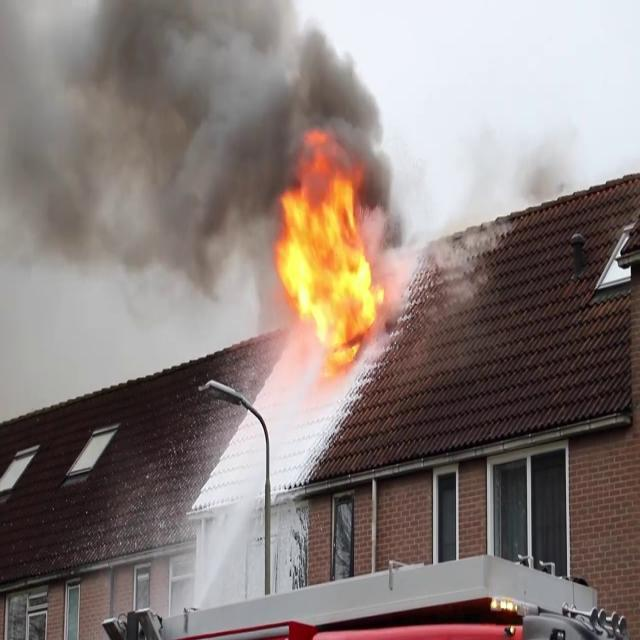Fire: (270, 146, 388, 378)
Smoke: (0, 0, 398, 304)
